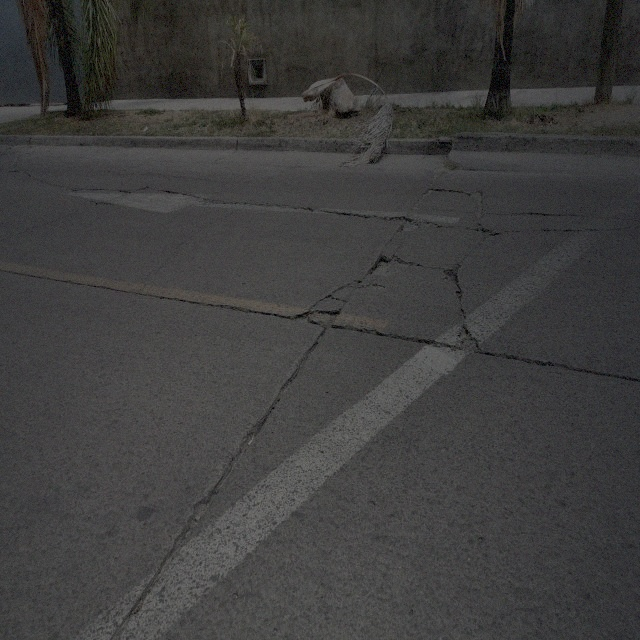pothole: (454, 322, 481, 356), (369, 249, 399, 278), (301, 306, 340, 328), (443, 259, 461, 286), (476, 223, 496, 242)
